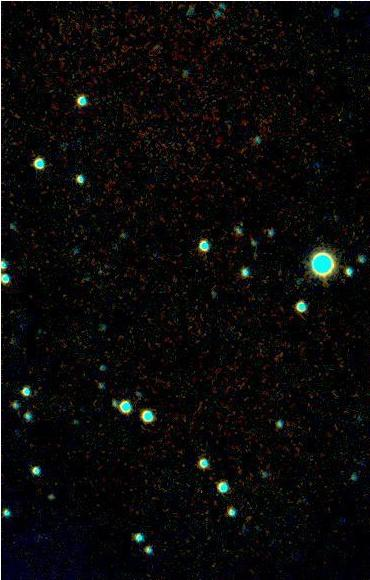star: (234, 507, 264, 537)
